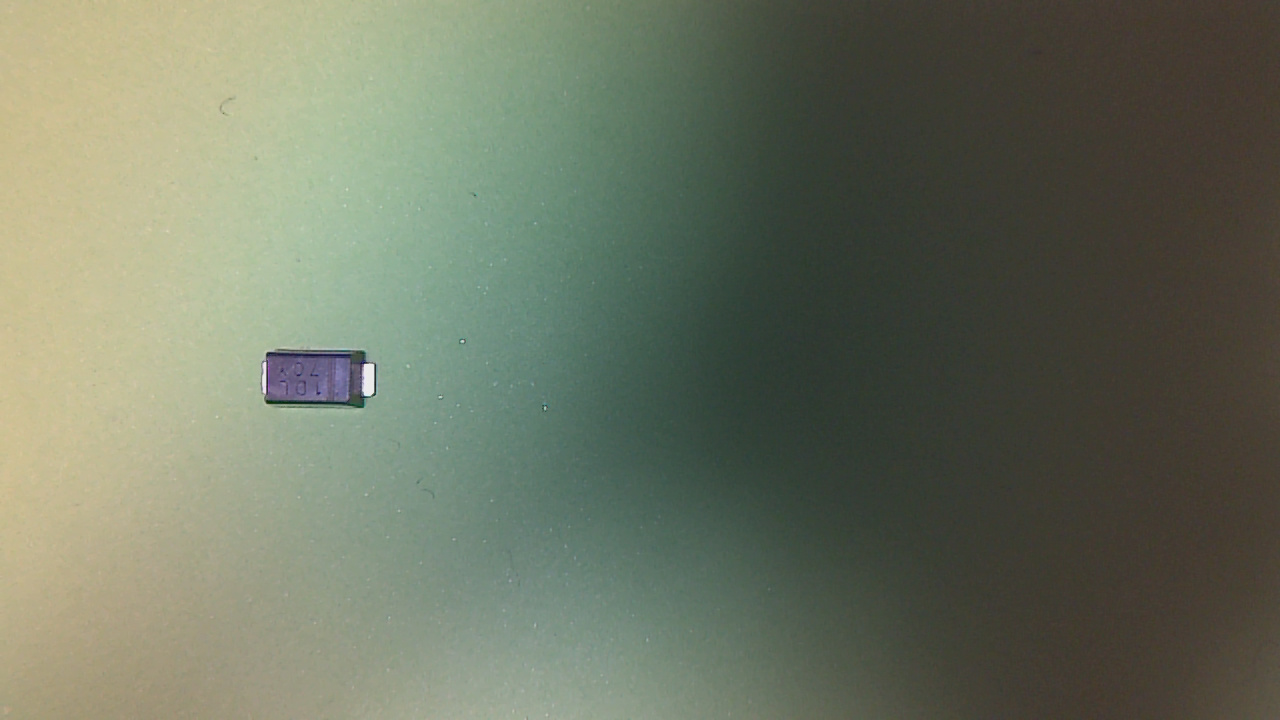Diode: (259, 348, 383, 416)
